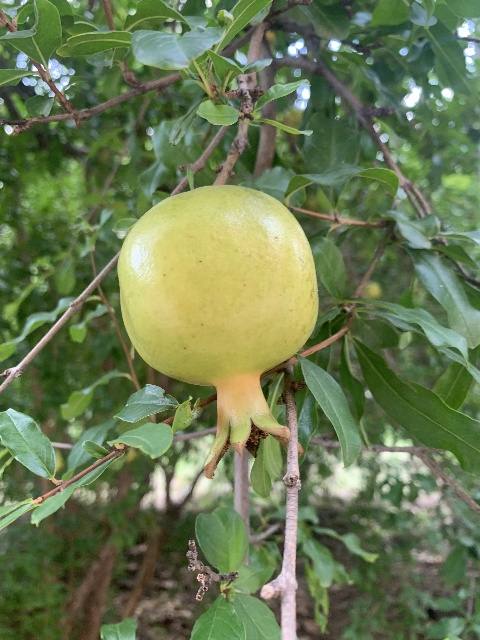mid-growth: (116, 186, 320, 479)
